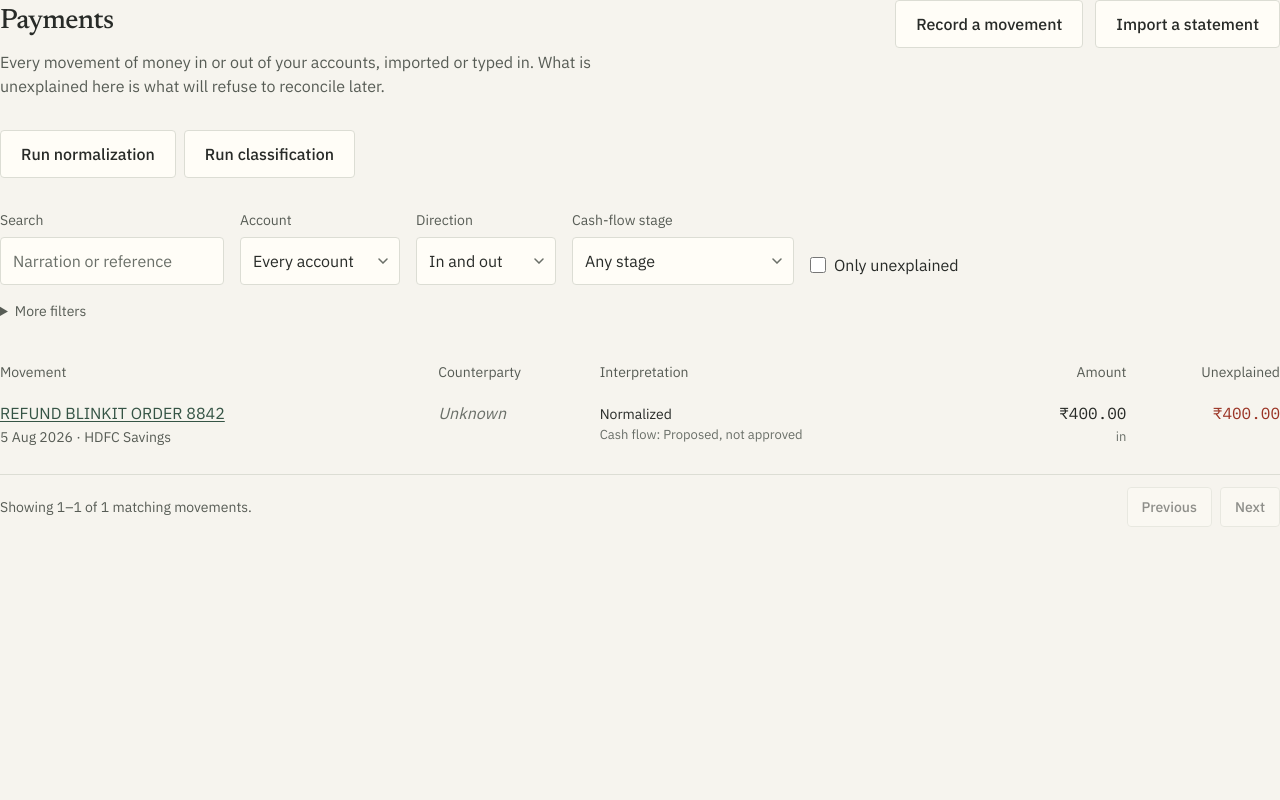
it: the payment workspace › offers the classification run behind a dialog that says it approves nothing
The width and height of the screenshot is (1280, 800).
Click the button "Run classification" at (269, 154), box x1=184 y1=130 x2=355 y2=178
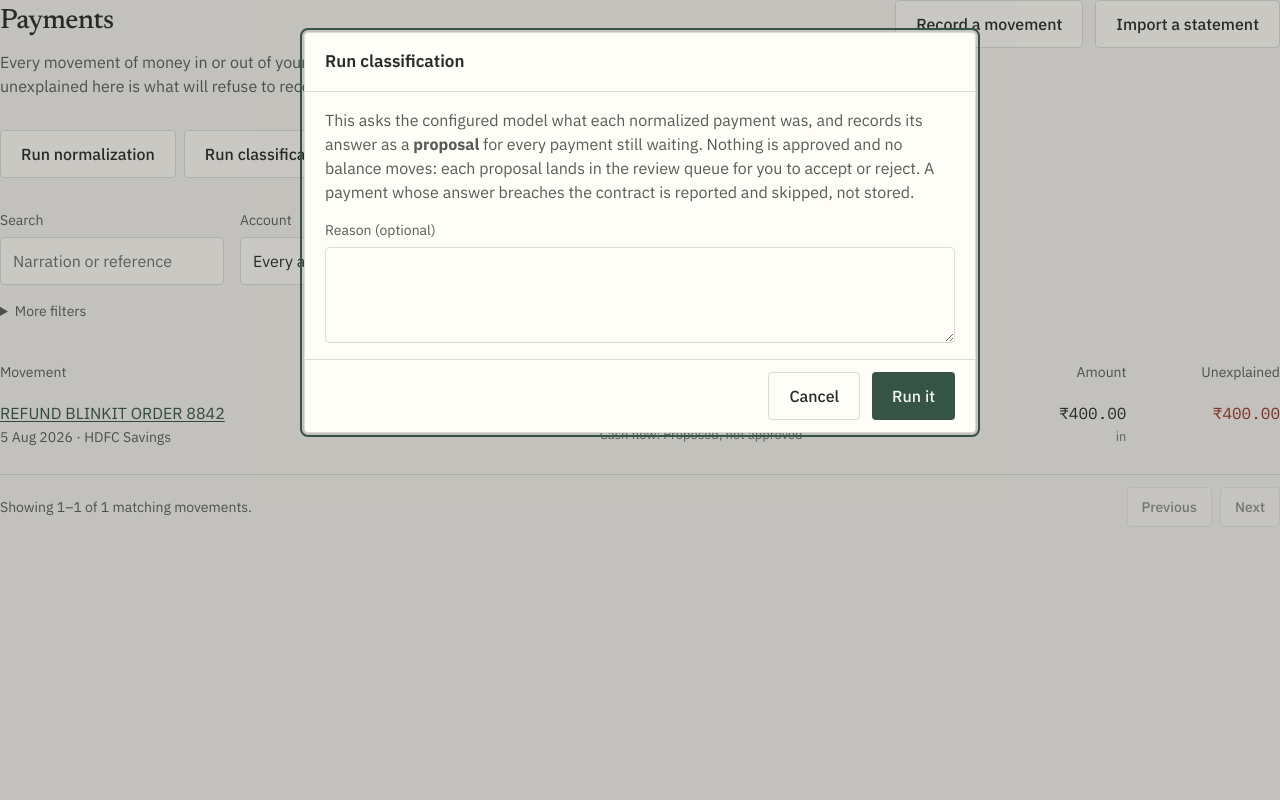
Result: the text "Nothing is approved" is shown at x1=325 y1=134 x2=934 y2=202
